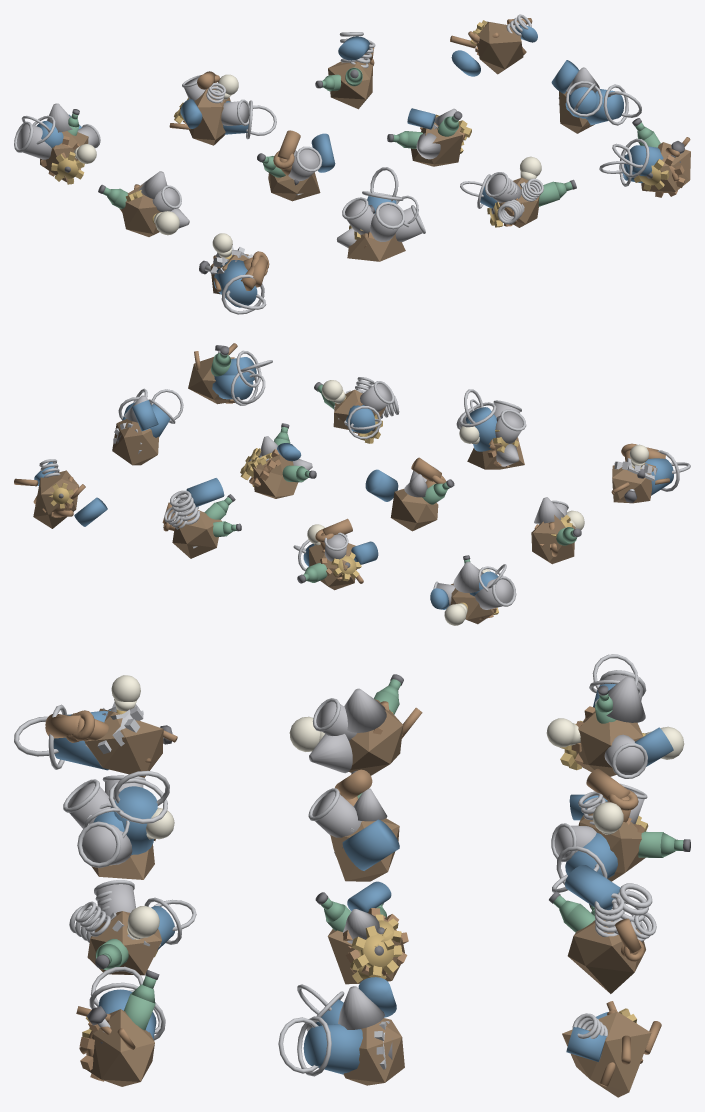
File: scrap_kit.glb
3 views of the same model, one above another, from view 1: azimuth 30°, elevation 25°; view 2: azimuth 150°, elevation 25°; view 3: azimuth 270°, elevation 25° (orthographic). The views are drawn at different scales.
Visible parts, largest first — view 1: ScrapHeap_02, ScrapHeap_10, ScrapHeap_09, ScrapHeap_03, ScrapHeap_04, ScrapHeap_08, ScrapHeap_01, ScrapHeap_06, ScrapHeap_05, ScrapHeap_12, ScrapHeap_07, ScrapHeap_11; view 2: ScrapHeap_02, ScrapHeap_11, ScrapHeap_09, ScrapHeap_10, ScrapHeap_06, ScrapHeap_04, ScrapHeap_03, ScrapHeap_07, ScrapHeap_01, ScrapHeap_08, ScrapHeap_12, ScrapHeap_05; view 3: ScrapHeap_08, ScrapHeap_09, ScrapHeap_02, ScrapHeap_10, ScrapHeap_11, ScrapHeap_01, ScrapHeap_05, ScrapHeap_04, ScrapHeap_03, ScrapHeap_06, ScrapHeap_07, ScrapHeap_12.
Boxes of the visible parts, x1,y1,x2,y2 form: ScrapHeap_02: [336, 167, 425, 261]; ScrapHeap_10: [169, 71, 276, 145]; ScrapHeap_09: [14, 103, 100, 184]; ScrapHeap_03: [460, 156, 576, 227]; ScrapHeap_04: [599, 118, 690, 197]; ScrapHeap_08: [551, 60, 641, 133]; ScrapHeap_01: [199, 233, 269, 314]; ScrapHeap_06: [257, 130, 335, 201]; ScrapHeap_05: [98, 171, 189, 236]; ScrapHeap_12: [450, 14, 537, 76]; ScrapHeap_07: [387, 108, 471, 166]; ScrapHeap_11: [315, 32, 375, 109]; ScrapHeap_02: [456, 389, 526, 469]; ScrapHeap_11: [162, 478, 241, 558]; ScrapHeap_09: [430, 555, 516, 625]; ScrapHeap_10: [293, 518, 378, 590]; ScrapHeap_06: [365, 457, 454, 531]; ScrapHeap_04: [188, 343, 272, 405]; ScrapHeap_03: [314, 377, 399, 443]; ScrapHeap_07: [240, 423, 316, 498]; ScrapHeap_01: [611, 443, 690, 503]; ScrapHeap_08: [112, 388, 183, 465]; ScrapHeap_12: [14, 459, 107, 528]; ScrapHeap_05: [531, 497, 584, 564]; ScrapHeap_08: [278, 977, 404, 1085]; ScrapHeap_09: [546, 654, 684, 778]; ScrapHeap_02: [63, 770, 174, 879]; ScrapHeap_10: [551, 768, 690, 892]; ScrapHeap_11: [549, 865, 656, 993]; ScrapHeap_01: [14, 675, 177, 777]; ScrapHeap_05: [289, 674, 422, 775]; ScrapHeap_04: [76, 966, 165, 1086]; ScrapHeap_03: [69, 880, 196, 975]; ScrapHeap_06: [308, 769, 399, 881]; ScrapHeap_07: [315, 881, 408, 984]; ScrapHeap_12: [562, 1001, 661, 1097].
Bounding box in the file's own units: 3.21 × 0.5425 × 2.5.
